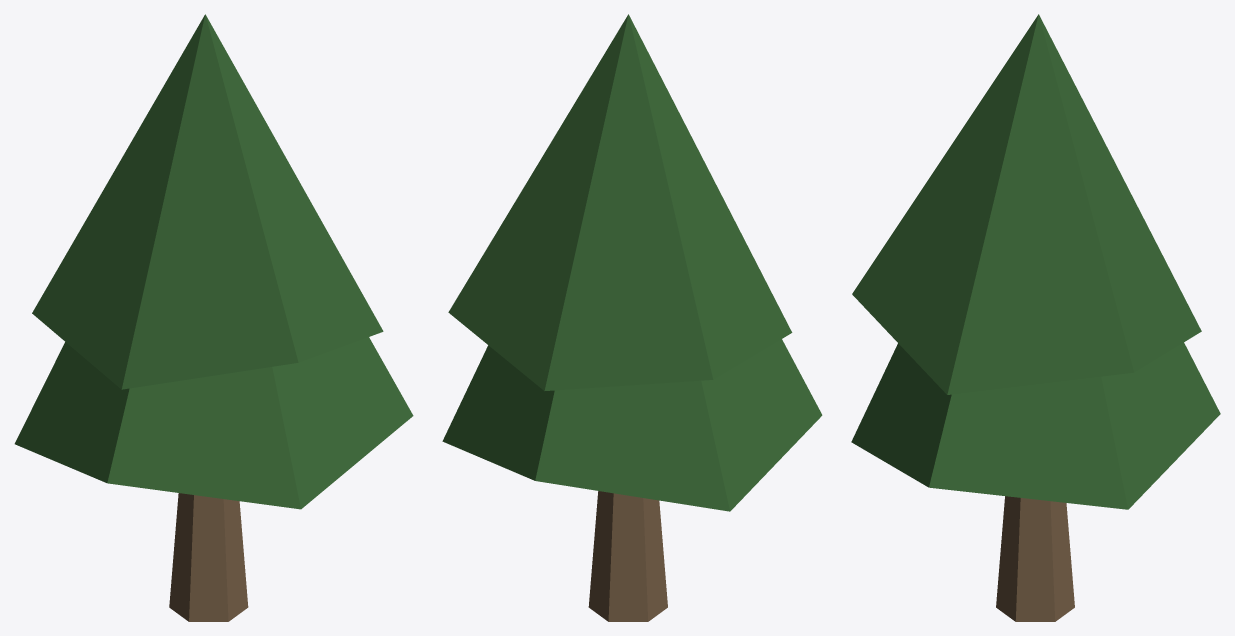
The model's file is tree.fbx.
3 renders of one model, left to right at view 1: azimuth 30°, elevation 25°; view 2: azimuth 150°, elevation 25°; view 3: azimuth 270°, elevation 25°, orthographic.
Visible parts, largest first — view 1: Cone; view 2: Cone; view 3: Cone.
Boxes of the visible parts, box(x1,y1,x2,y2) form: Cone: box(14, 14, 413, 621); Cone: box(442, 14, 822, 621); Cone: box(851, 14, 1220, 621).
Bounding box in the file's own units: 364 × 690 × 390.
